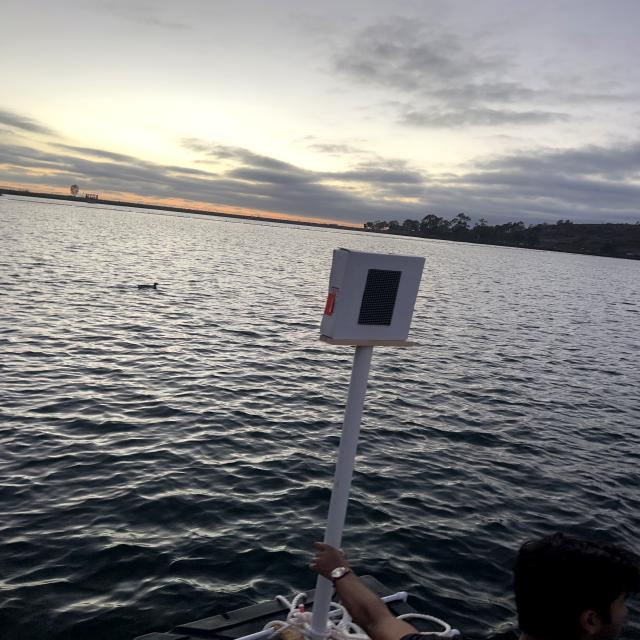led: (348, 256, 410, 343)
